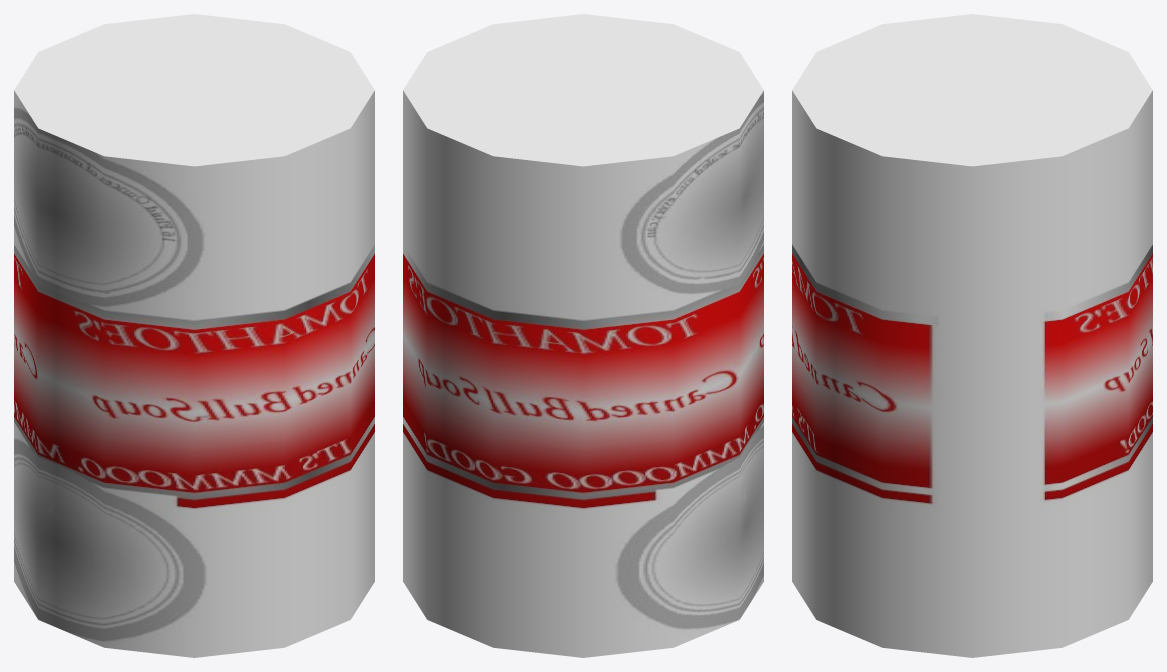
Rendered from ttt.obj.
3 views of the same model, side by side, from view 1: azimuth 30°, elevation 25°; view 2: azimuth 150°, elevation 25°; view 3: azimuth 270°, elevation 25° (orthographic).
Parts seen in each view (by area): view 1: Cylinder02; view 2: Cylinder02; view 3: Cylinder02.
Part boxes in pixels (box(x1,y1,x2,y2)): Cylinder02: box(14, 14, 374, 657); Cylinder02: box(403, 14, 763, 657); Cylinder02: box(792, 14, 1152, 657).
Bounding box in the file's own units: 39.75 × 59.75 × 39.75.
Materials: 1 (1 with a texture image).
